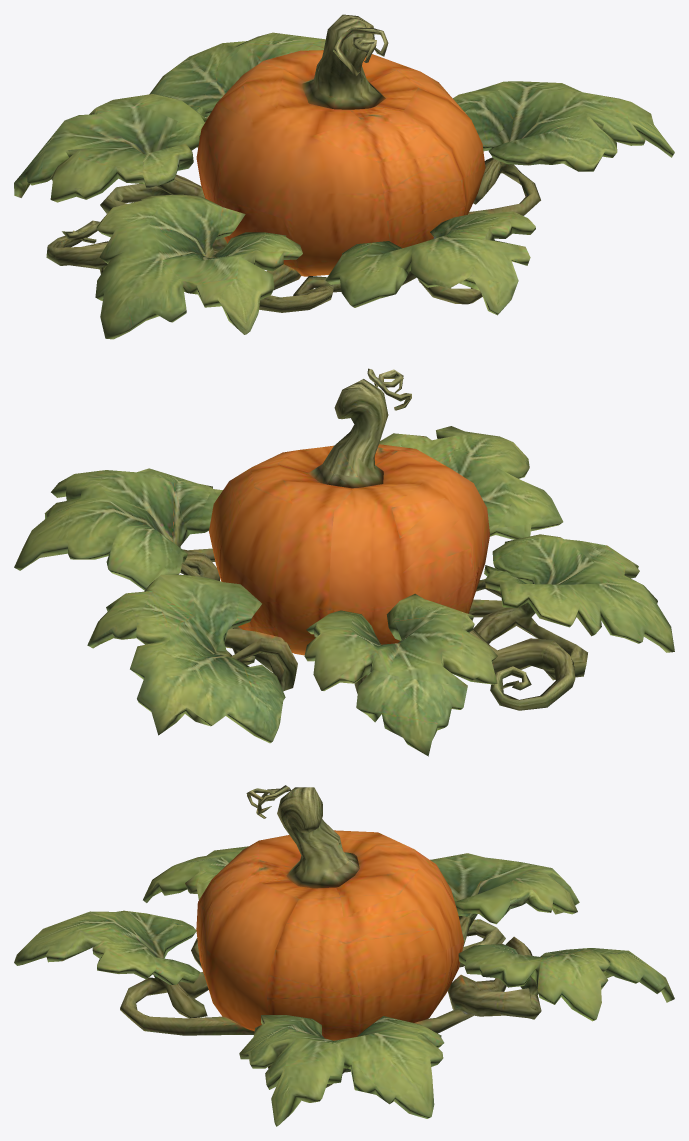
File: crop_pumpkin_3.glb
3 views of the same model, one above another, from view 1: azimuth 30°, elevation 25°; view 2: azimuth 150°, elevation 25°; view 3: azimuth 270°, elevation 25° (orthographic). The views are drawn at different scales.
Visible parts, largest first — view 1: crop_pumpkin_3; view 2: crop_pumpkin_3; view 3: crop_pumpkin_3.
Boxes of the visible parts, bbox=[...] form: crop_pumpkin_3: bbox=[14, 14, 674, 339]; crop_pumpkin_3: bbox=[14, 368, 674, 756]; crop_pumpkin_3: bbox=[14, 785, 674, 1126].
Bounding box in the file's own units: 0.9088 × 0.3394 × 0.92.
Materials: 1 (1 with a texture image).
